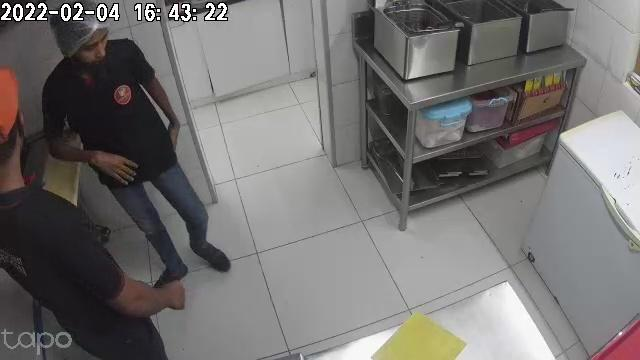no_gloves: (84, 150, 138, 184)
